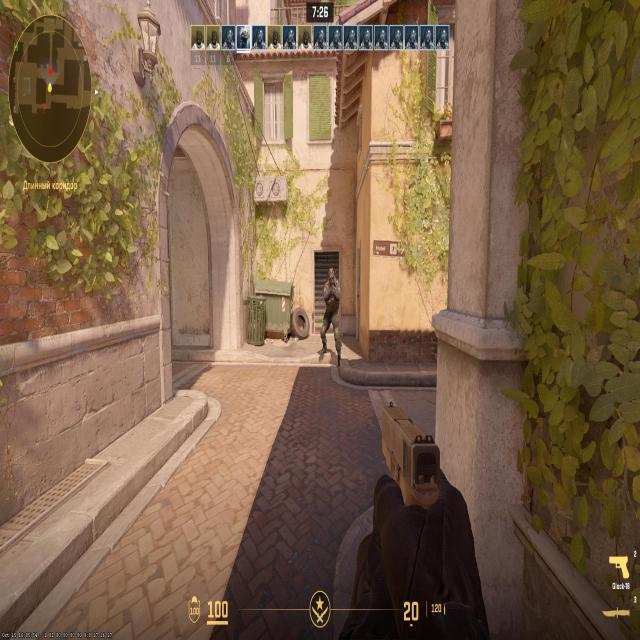CT: (327, 272, 341, 354)
CT_heat: (332, 270, 337, 284)
